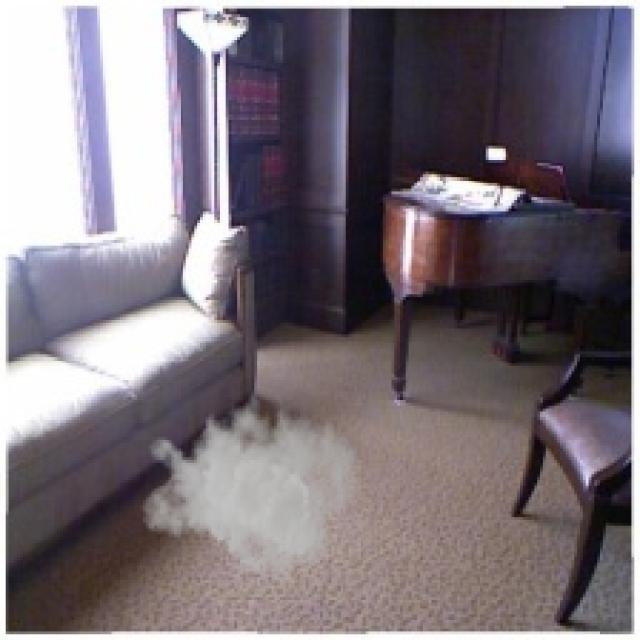Smoke: (140, 383, 360, 583)
